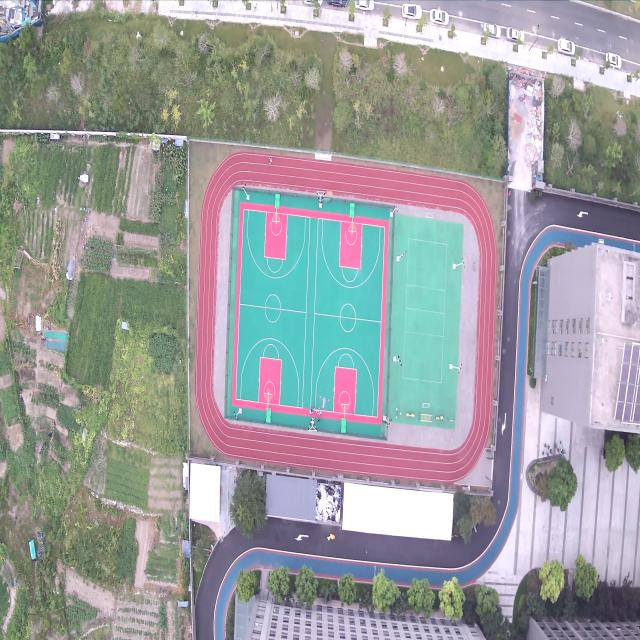UAV: (318, 395, 329, 412)
